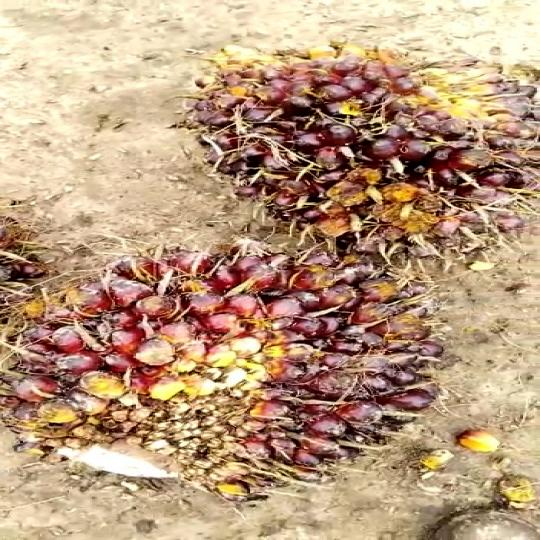kurang masak: (10, 227, 473, 530), (176, 43, 540, 277)
